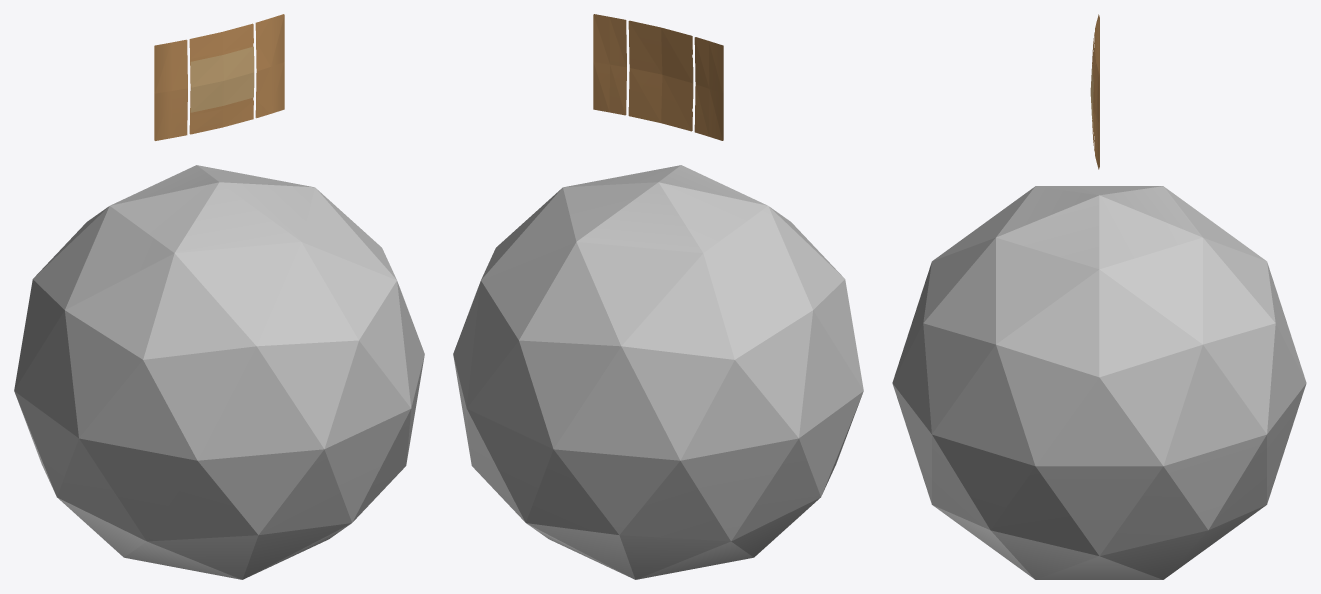
Rendered from gate.lod.glb.
3 views of the same model, side by side, from view 1: azimuth 30°, elevation 25°; view 2: azimuth 150°, elevation 25°; view 3: azimuth 270°, elevation 25° (orthographic).
Visible parts, largest first — view 1: gate.001; view 2: gate.001; view 3: gate.001.
Part boxes in pixels (x1,y1,x2,y2): gate.001: (14, 14, 424, 579); gate.001: (453, 14, 863, 579); gate.001: (892, 14, 1306, 579).
Size of the model in its own units: 1.9 by 2.8 by 2.
